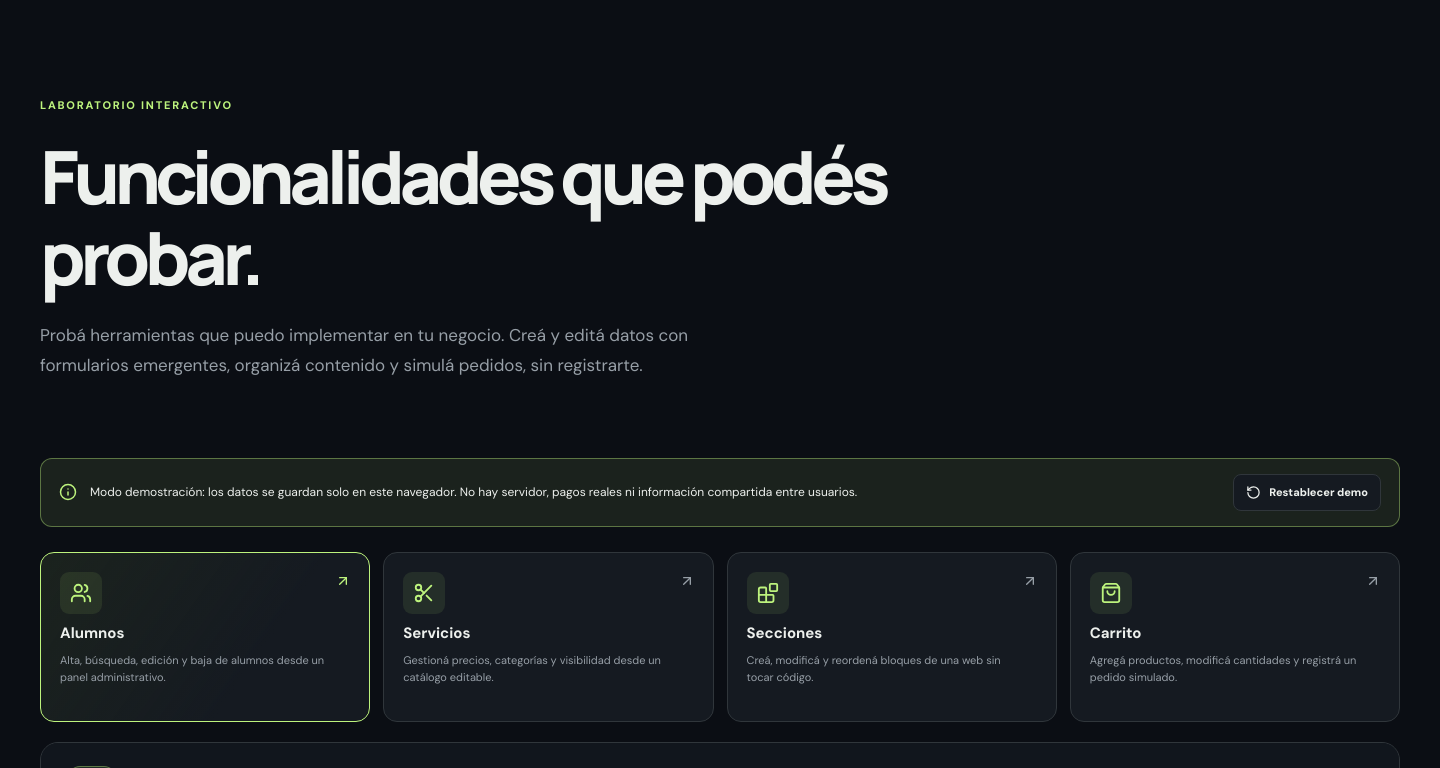
Laboratory — additional business workflow regressions › edits a service price and visibility while retaining the original ID
This screenshot has width=1440, height=768.
What coordinates should you click on to do the following:
click the tab "Servicios"
I would click on:
 (424, 593)
Its box is [383,552,714,722].
(page scrolled)
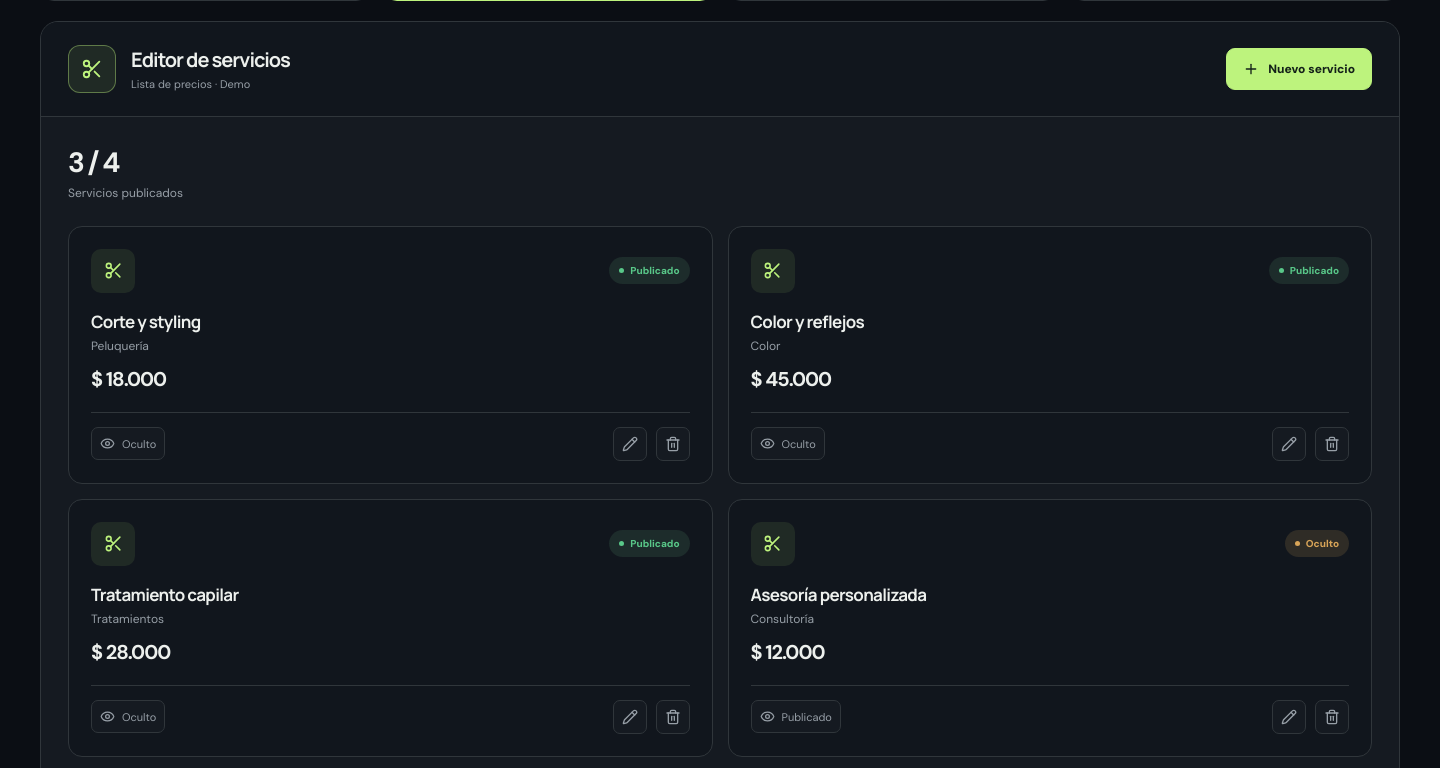
What coordinates should you click on to do the following:
click the button named "Editar: Corte y styling"
I would click on:
 (630, 444)
Its box is [612,427,646,461].
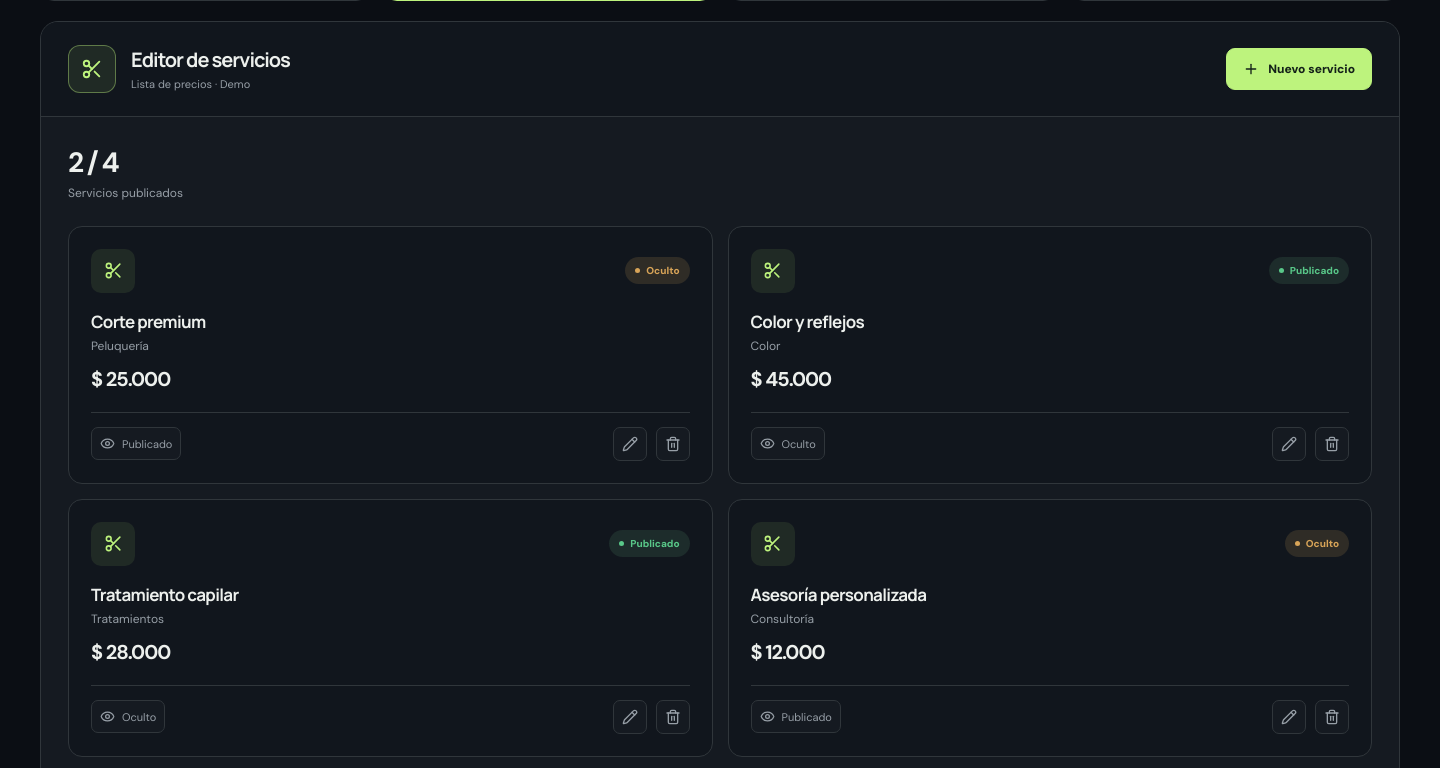
Now the heading "Corte premium" is shown, box [91,310,206,333]
